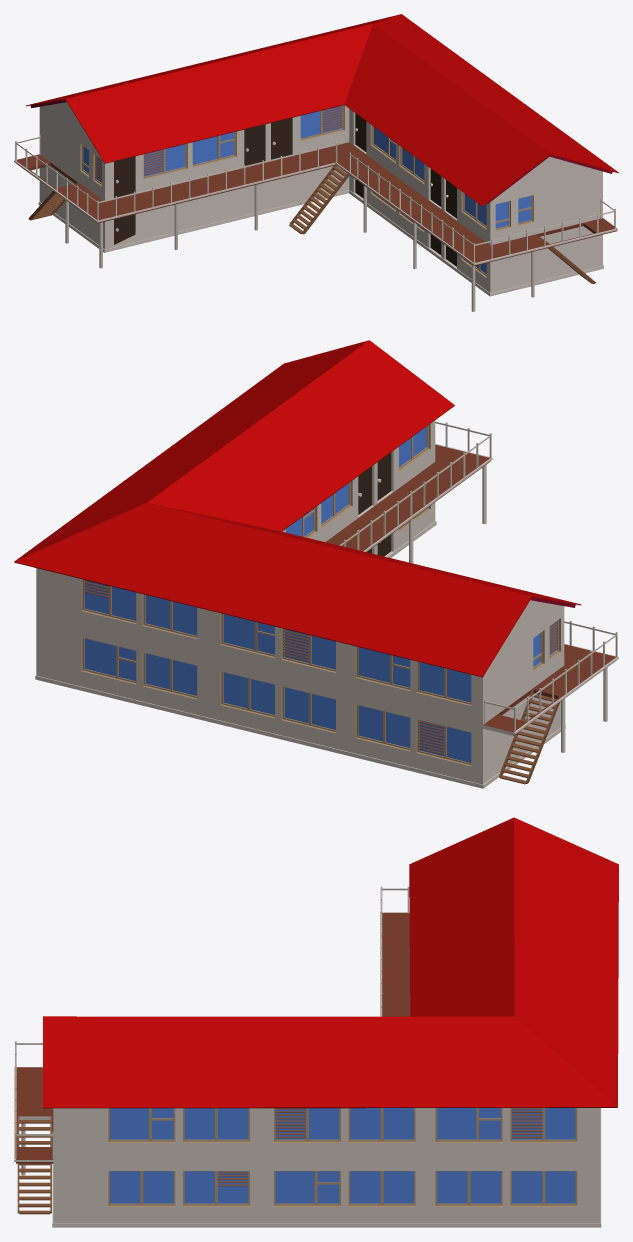
File: Motel.gltf
3 views of the same model, one above another, from view 1: azimuth 30°, elevation 25°; view 2: azimuth 150°, elevation 25°; view 3: azimuth 270°, elevation 25° (orthographic). The views are drawn at different scales.
Parts seen in each view (by area): view 1: Motel; view 2: Motel; view 3: Motel.
Boxes of the visible parts, bbox=[...] form: Motel: bbox=[14, 14, 618, 311]; Motel: bbox=[14, 340, 618, 788]; Motel: bbox=[14, 817, 618, 1227].
Size of the model in its own units: 21.01 by 6.67 by 21.01.
